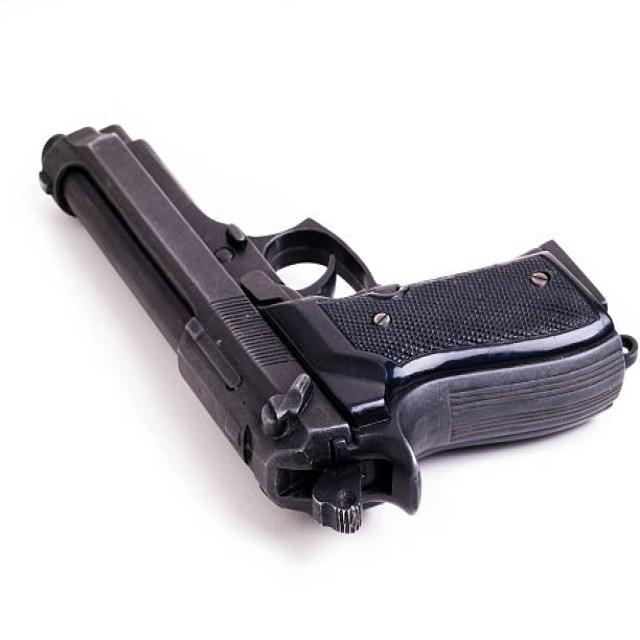pistol: (33, 120, 640, 545)
